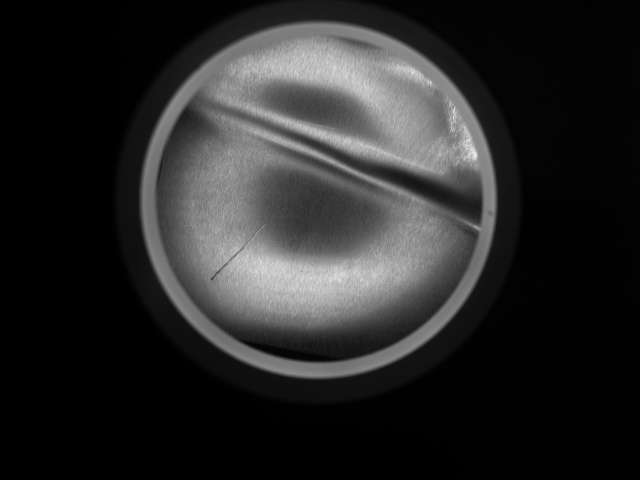ca_shang: (209, 219, 268, 284)
zhe_zhou: (186, 77, 448, 322)
